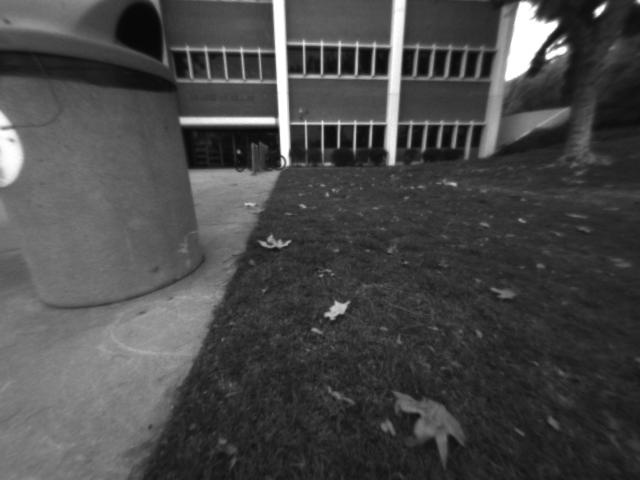trashcan: (3, 3, 226, 320)
